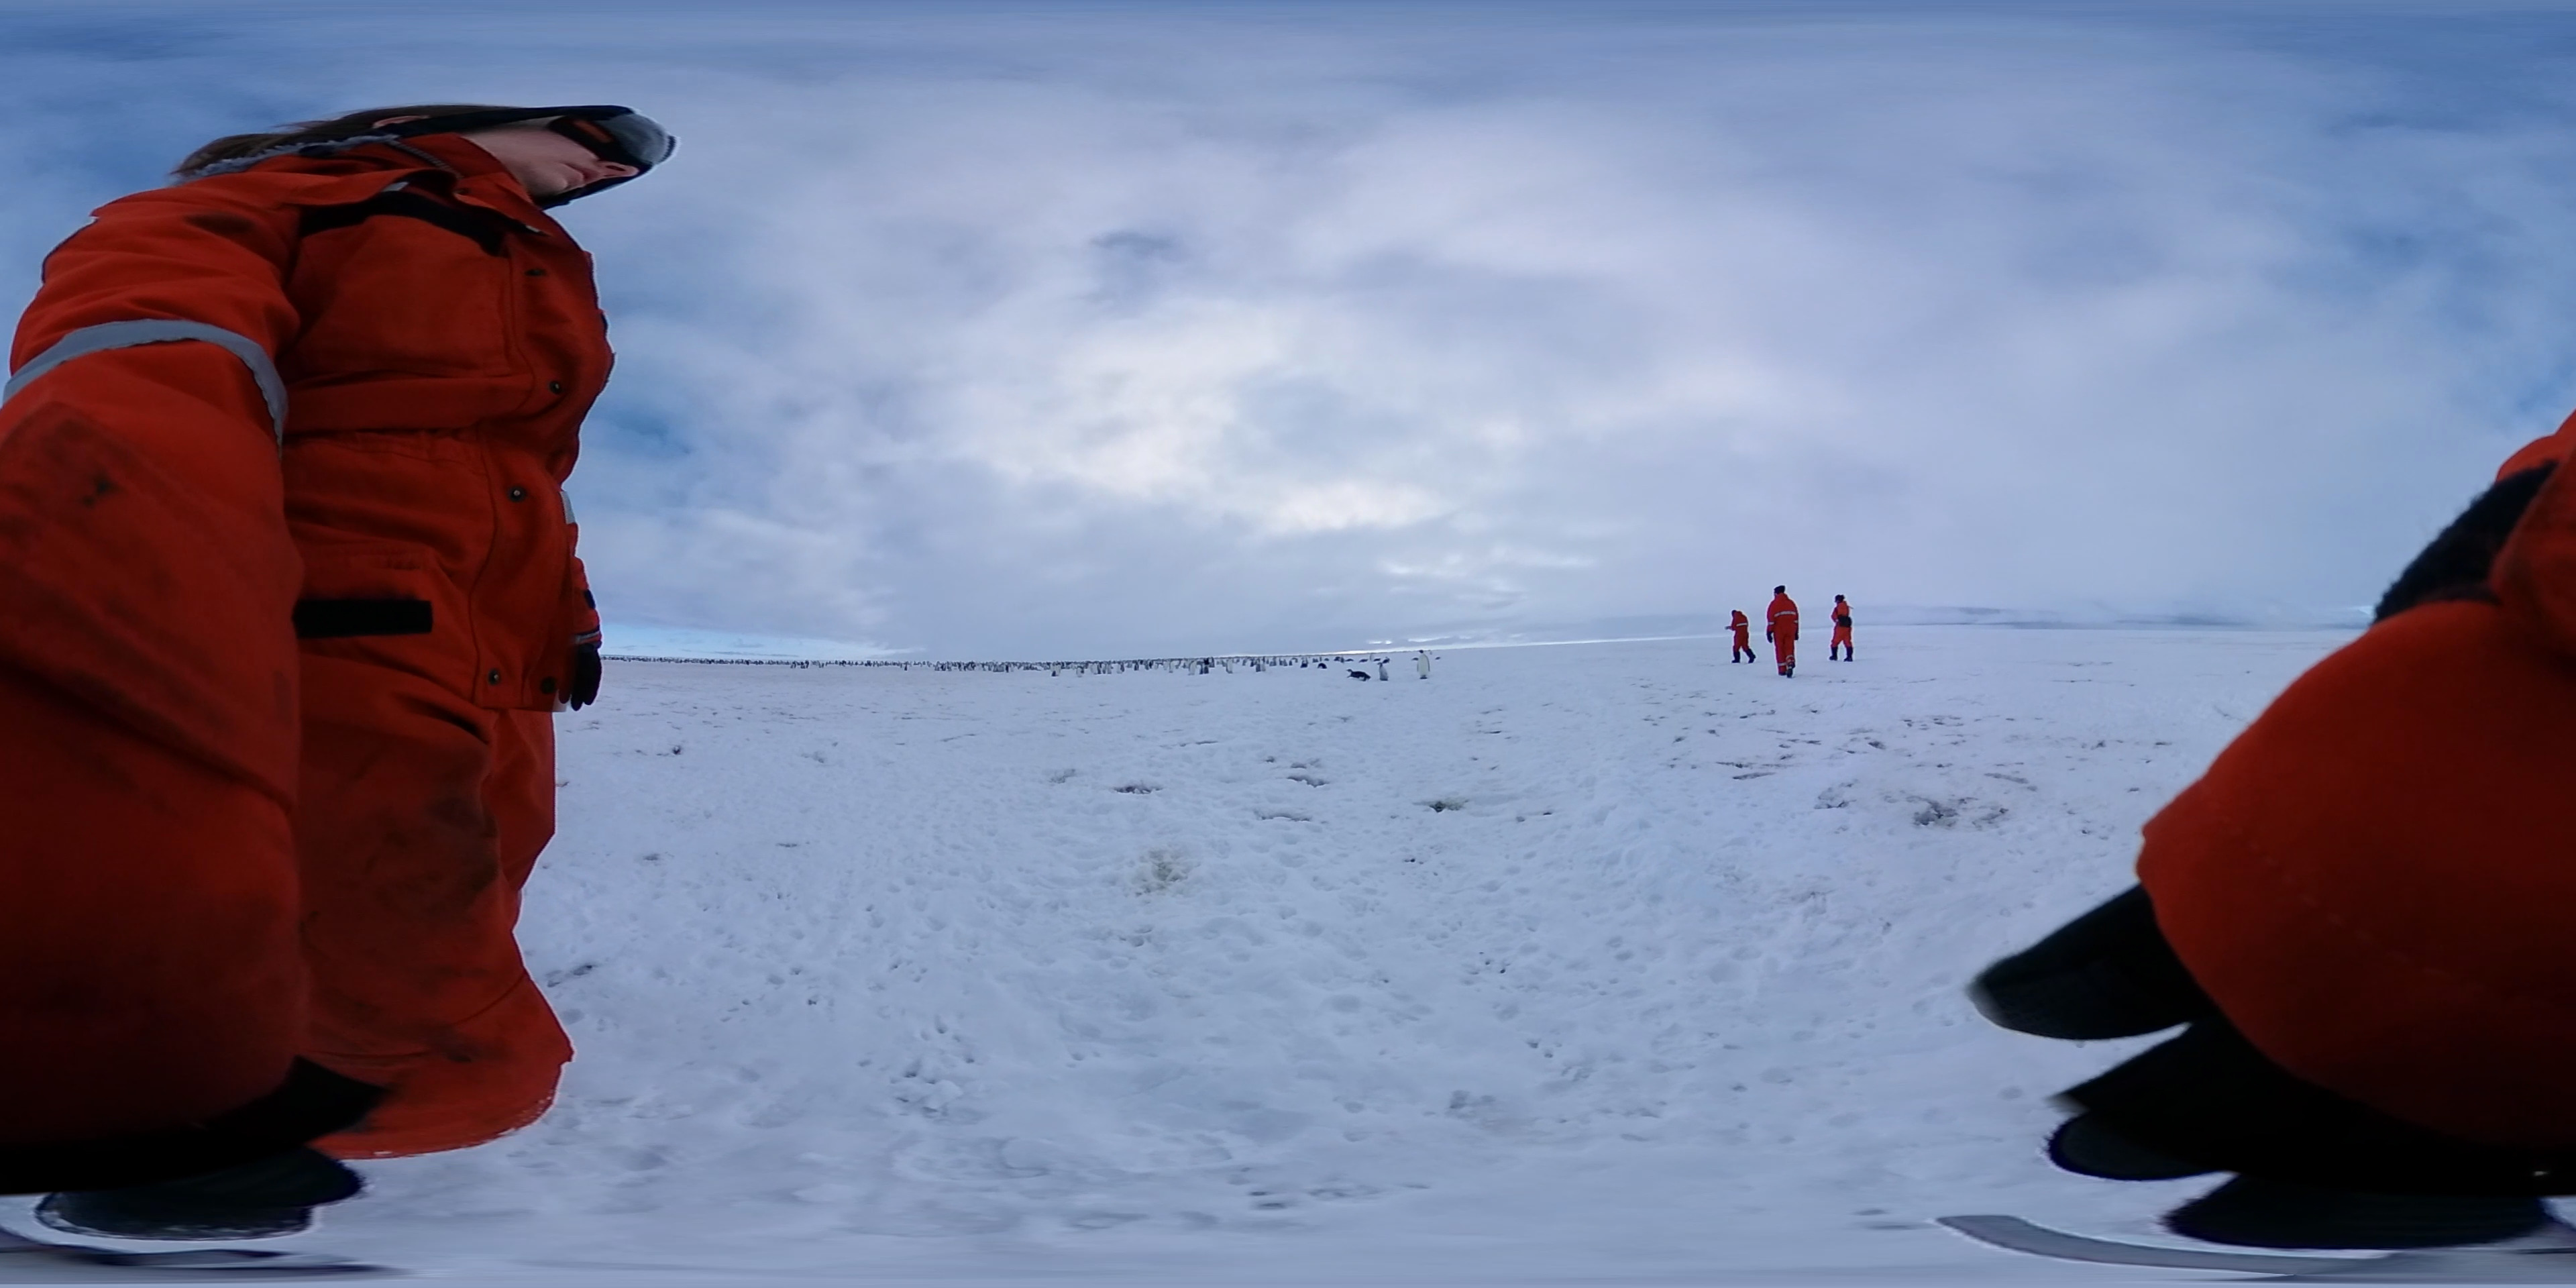adult_standing_penguin: (1414, 649, 1433, 683)
adult_toboggan_penguin: (1342, 665, 1373, 683)
juvenile_penguin: (1373, 660, 1391, 680)
researcher: (0, 77, 688, 1239), (1763, 585, 1802, 680), (1825, 593, 1856, 662), (1723, 606, 1758, 664)
